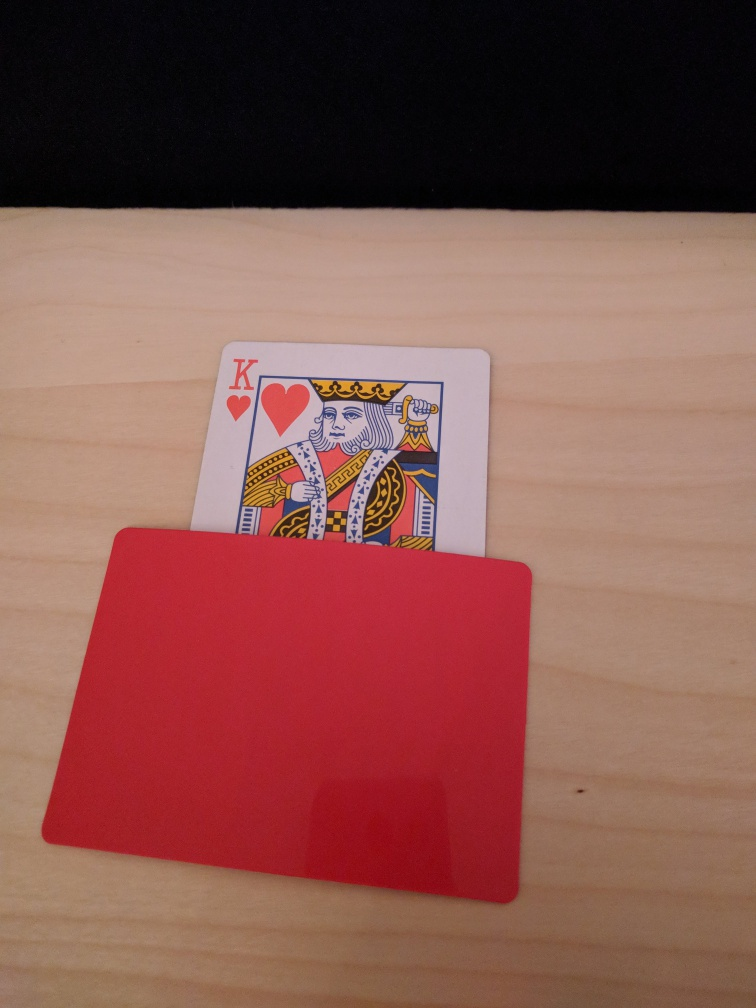king: (190, 340, 491, 559)
